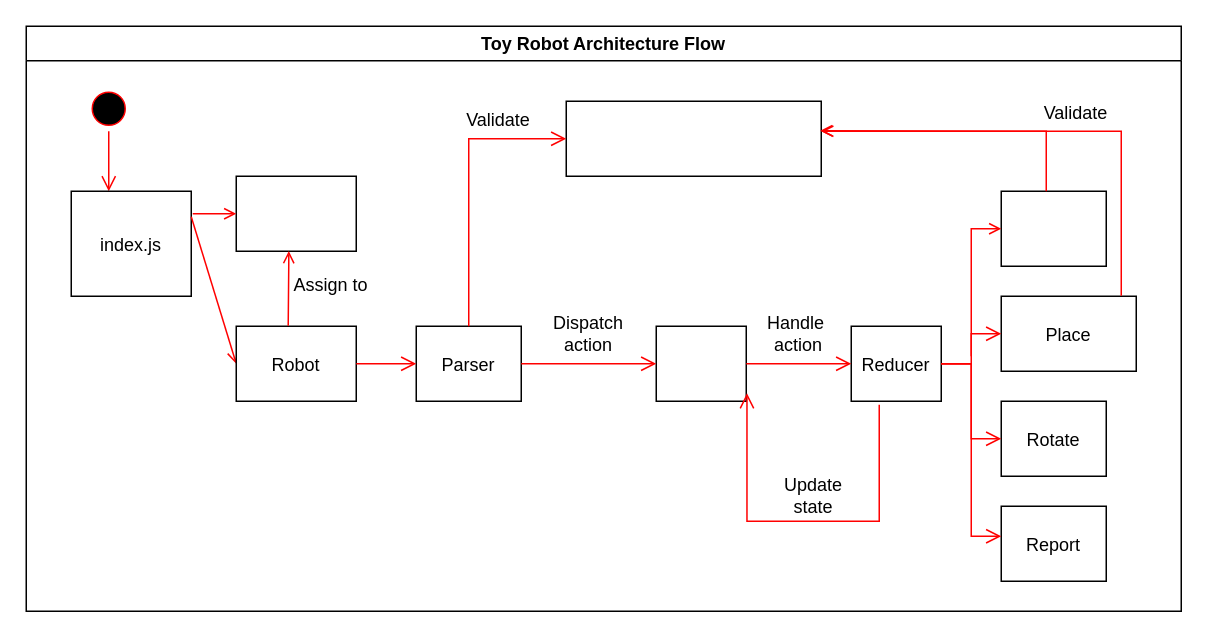
Some shapes in this 1208 by 638 pixel diagram are drawn without their labels. The centre of each missing label's shape, as x and y in pixels:
"Move" goes at (x=1053, y=228).
"Store" goes at (x=700, y=363).
"Table" goes at (x=295, y=213).
"Validations" goes at (x=693, y=138).
